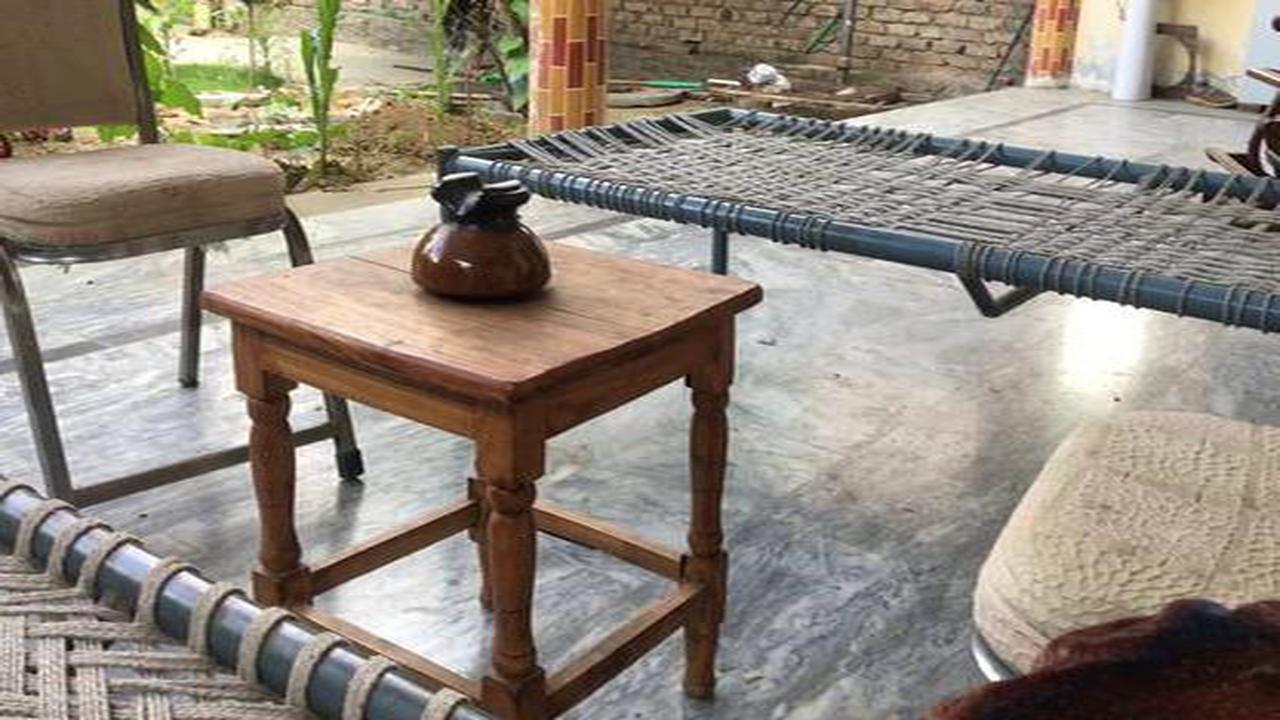insulator_pin: (397, 156, 576, 314)
